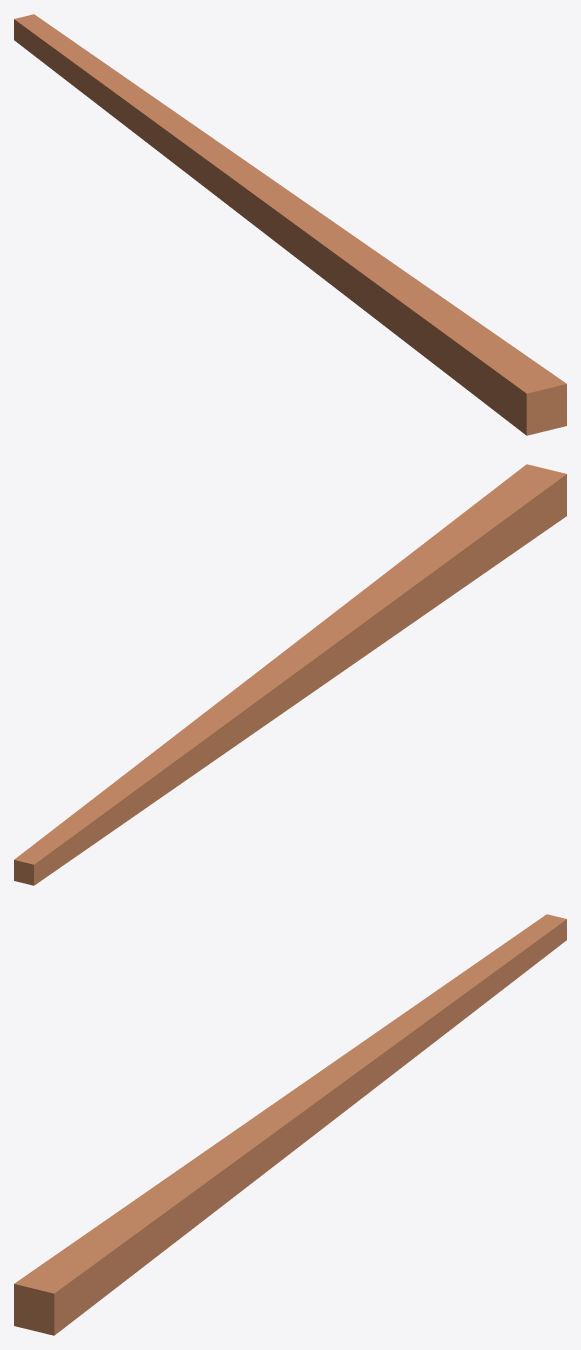
Rendered from chopstick.fbx.
3 views of the same model, one above another, from view 1: azimuth 30°, elevation 25°; view 2: azimuth 150°, elevation 25°; view 3: azimuth 330°, elevation 25° (orthographic).
Parts seen in each view (by area): view 1: chopstick; view 2: chopstick; view 3: chopstick.
Boxes of the visible parts, x1=… form: chopstick: x1=14, y1=14, x2=566, y2=435; chopstick: x1=14, y1=464, x2=566, y2=885; chopstick: x1=14, y1=914, x2=566, y2=1335.
Size of the model in its own units: 0.2 by 0.2 by 4.5.
